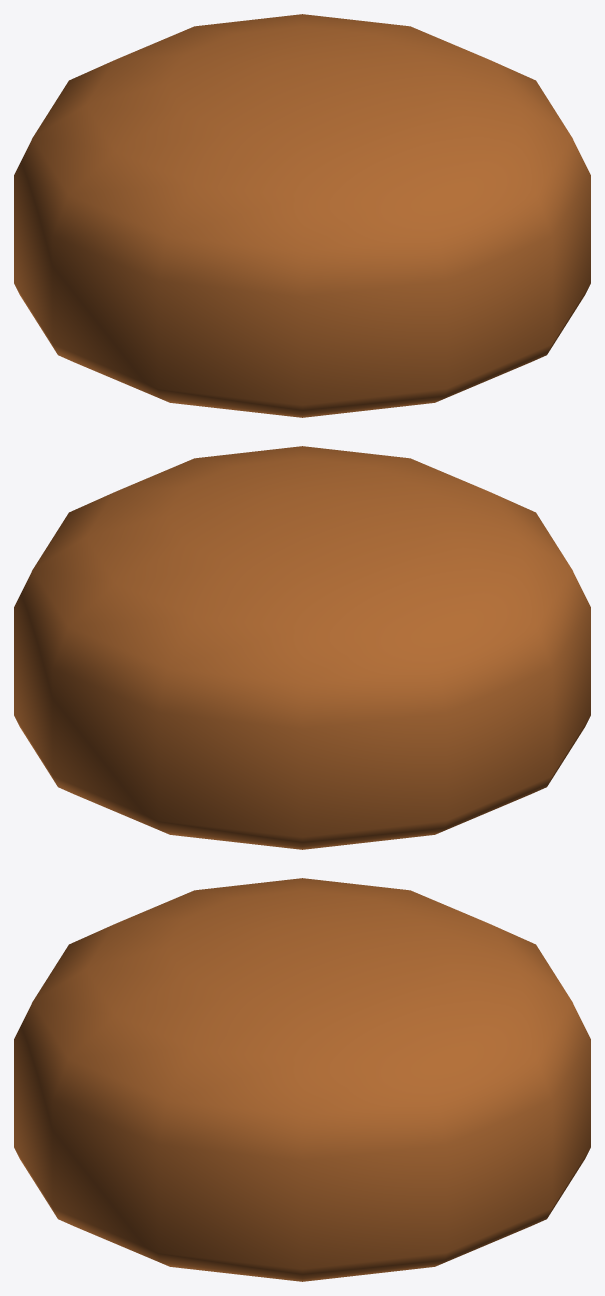
File: pan de hambuerguesa.fbx
3 views of the same model, one above another, from view 1: azimuth 30°, elevation 25°; view 2: azimuth 150°, elevation 25°; view 3: azimuth 270°, elevation 25° (orthographic).
Parts seen in each view (by area): view 1: Cylinder.035; view 2: Cylinder.035; view 3: Cylinder.035.
Boxes of the visible parts, <box> form: Cylinder.035: <box>14,14,590,417</box>; Cylinder.035: <box>14,446,590,849</box>; Cylinder.035: <box>14,878,590,1281</box>.
Bounding box in the file's own units: 182 × 83.09 × 182.
